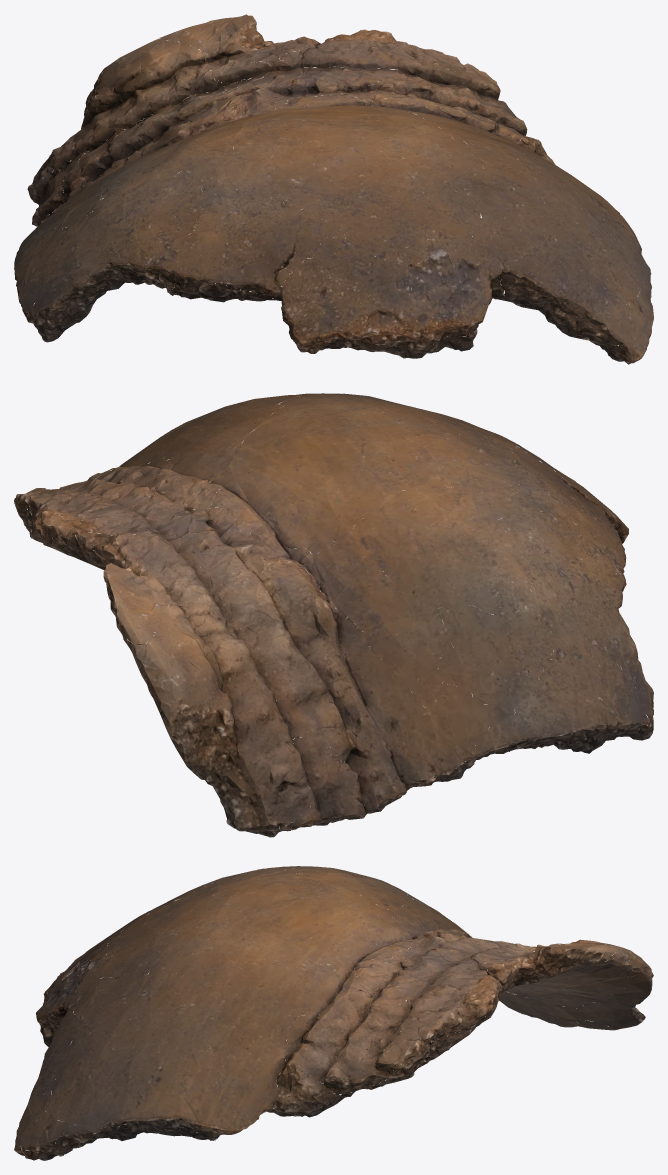
The model's file is Objeto_13_4k-b.glb.
3 views of the same model, one above another, from view 1: azimuth 30°, elevation 25°; view 2: azimuth 150°, elevation 25°; view 3: azimuth 270°, elevation 25° (orthographic). The views are drawn at different scales.
Visible parts, largest first — view 1: Mesh_0; view 2: Mesh_0; view 3: Mesh_0.
Boxes of the visible parts, left/top/right/bottom form: Mesh_0: left=14, top=14, right=653, bottom=364; Mesh_0: left=14, top=393, right=653, bottom=837; Mesh_0: left=14, top=866, right=653, bottom=1160.
Size of the model in its own units: 0.2034 by 0.0696 by 0.2274.
1 material, 1 textured.
